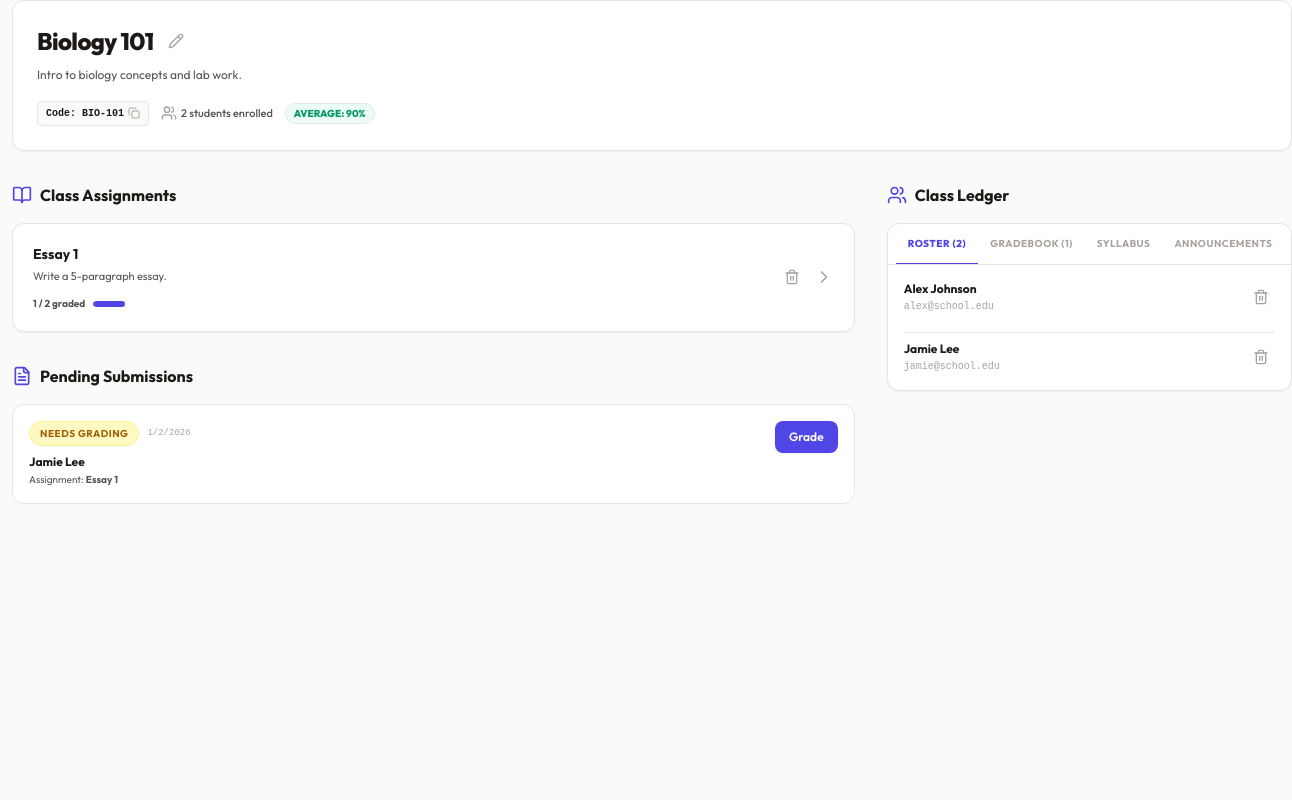
TeacherClassDetailPage › edits class info: saves successfully and updates the header
This screenshot has width=1292, height=800.
Check: the heading "Biology 101" is shown, box [37,25,154,57]
Click the button titled "Edit class details" at (176, 41), box [162,27,190,55]
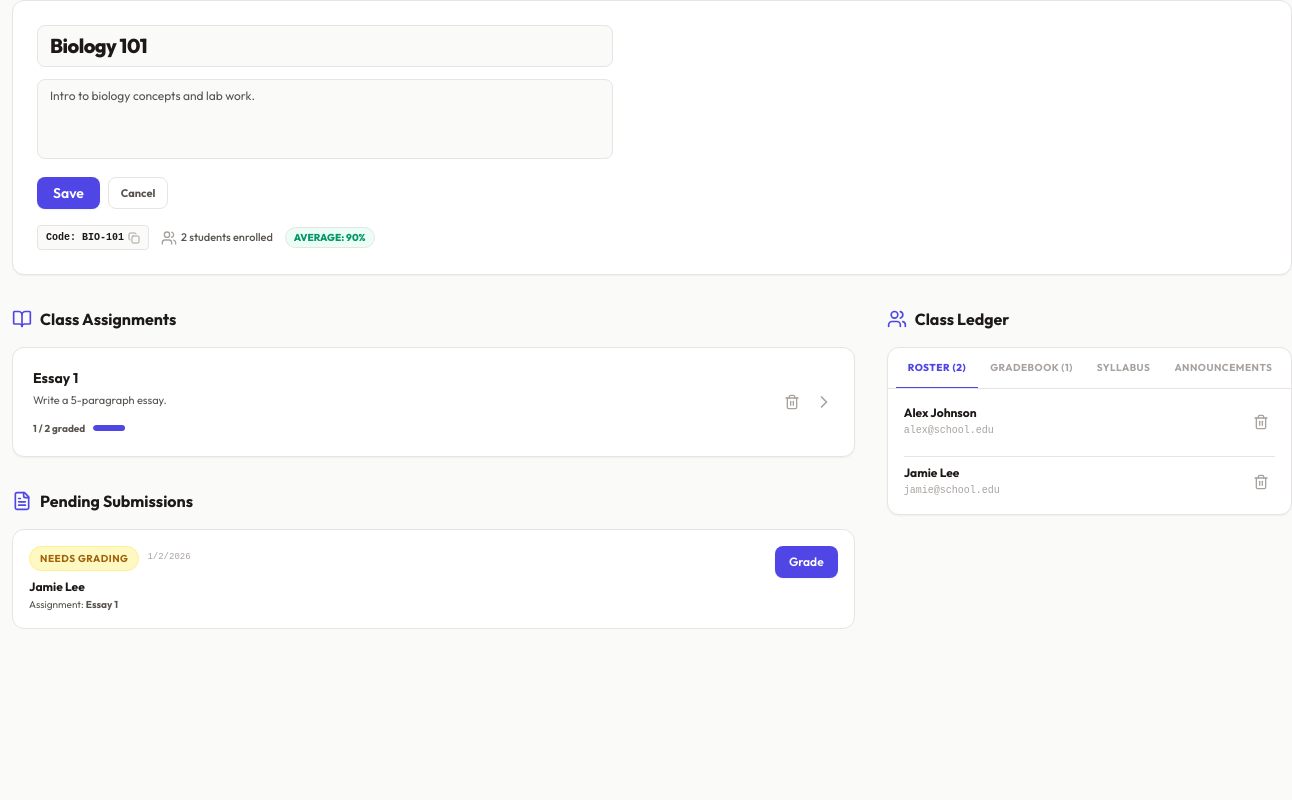
Replace the text in the field showing "Biology 101" with "Biology 201" at (325, 46), box [37,25,613,67]
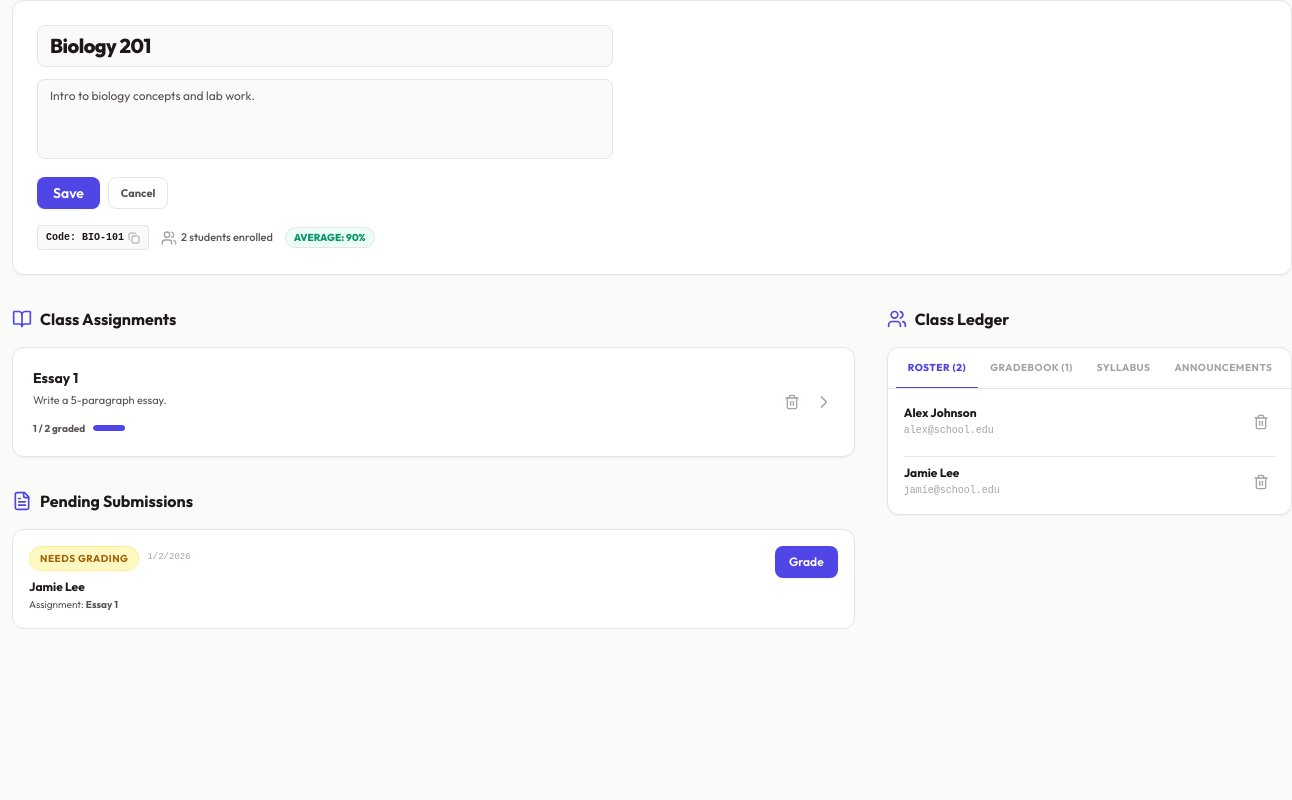
Replace the text in the text box with placeholder "Class description" with "Updated description" at (325, 119), box [37,79,613,159]
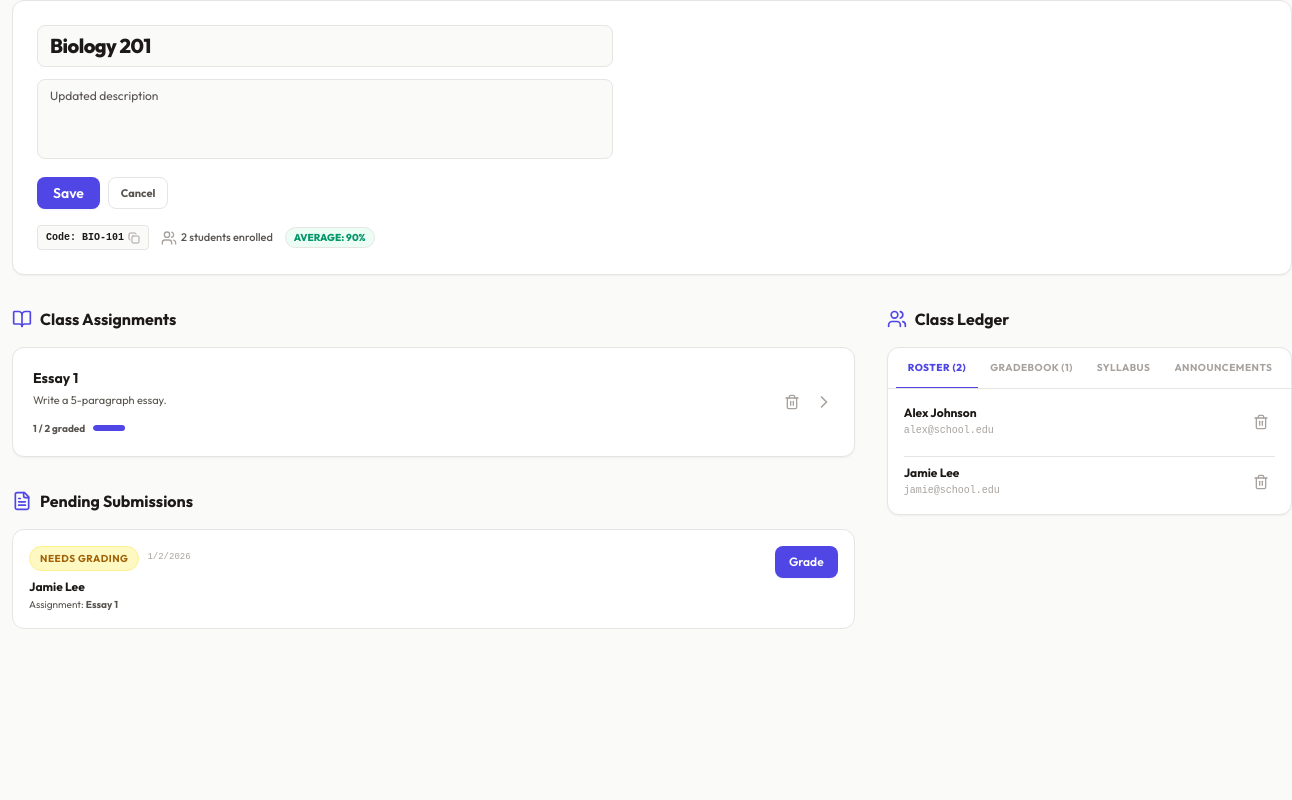
Click the button "Save" at (68, 193), box [37,177,100,209]
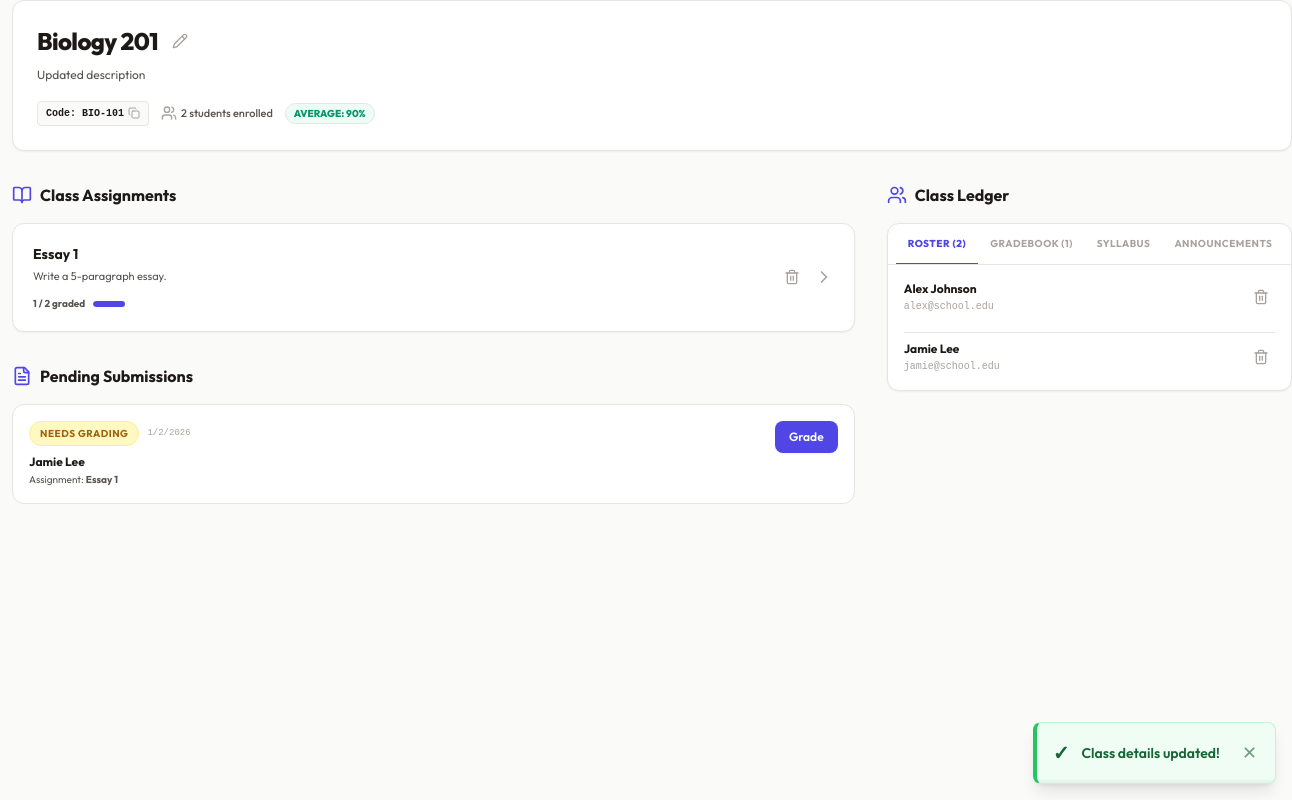
Check: the text "Class details updated!" is shown, box [1081,743,1228,763]
Check: the heading "Biology 201" is shown, box [37,25,158,57]
Check: the text "Updated description" is shown, box [37,67,146,82]
